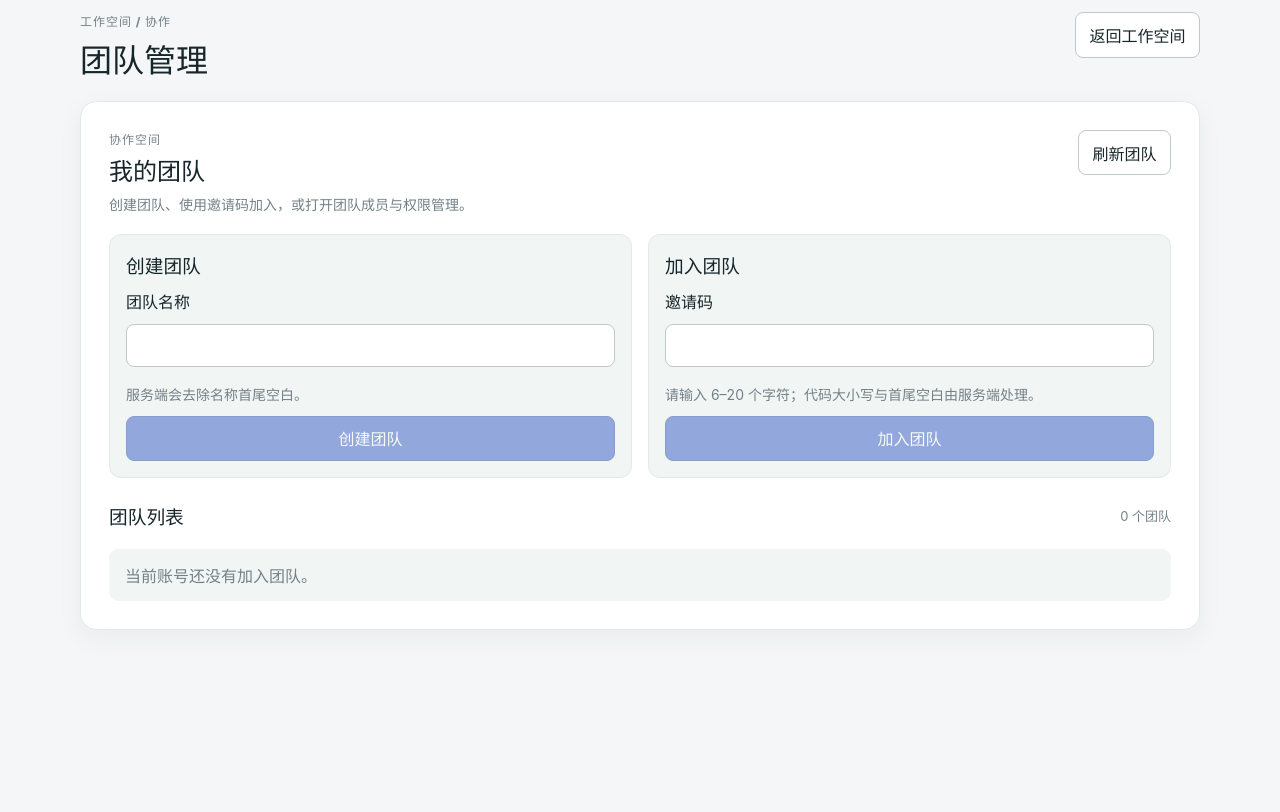
Test: TeamsPage › clears the host in-flight guard after a current unknown write result
Check: the text "当前账号还没有加入团队。" is shown, box x1=109 y1=549 x2=1171 y2=600
Type "保留草稿" into the field labelled "团队名称". click: (370, 345)
box: x1=126 y1=324 x2=615 y2=367
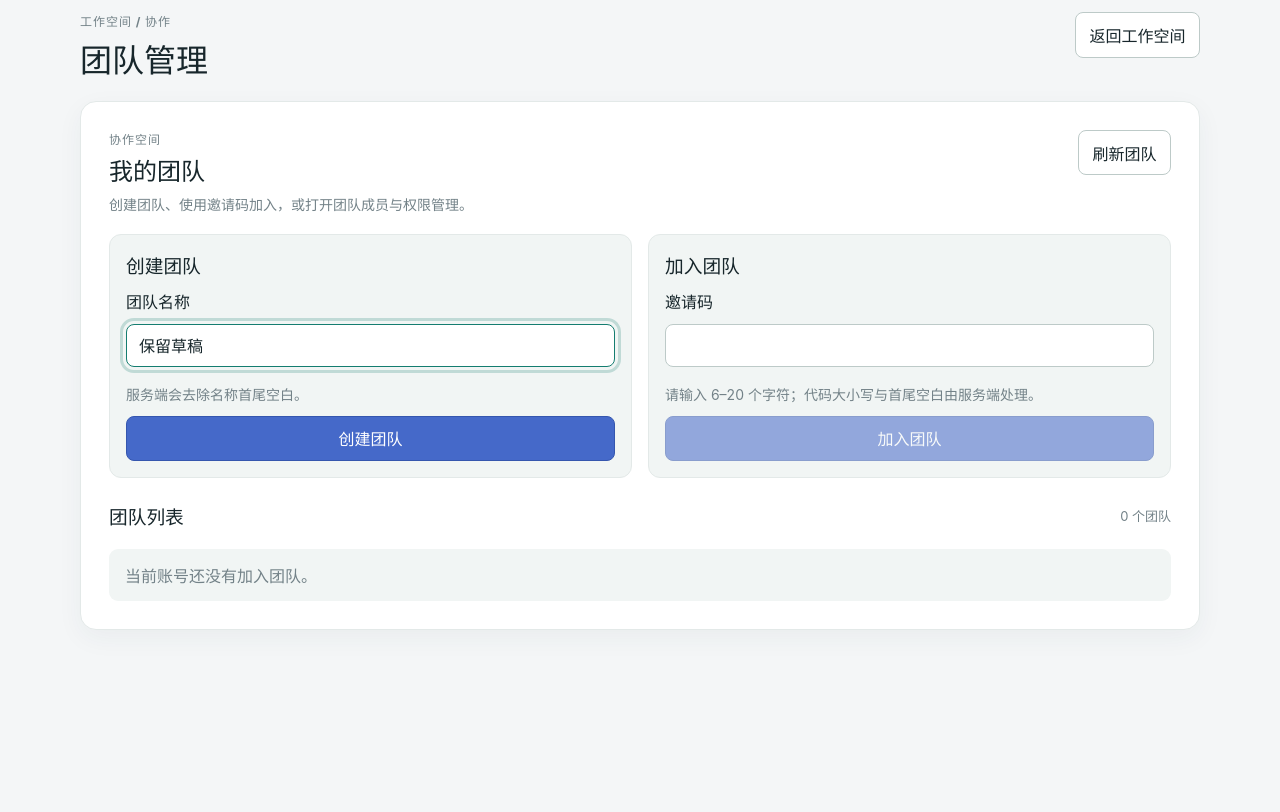
Click the button "创建团队". click: (370, 438)
box: x1=126 y1=416 x2=615 y2=461
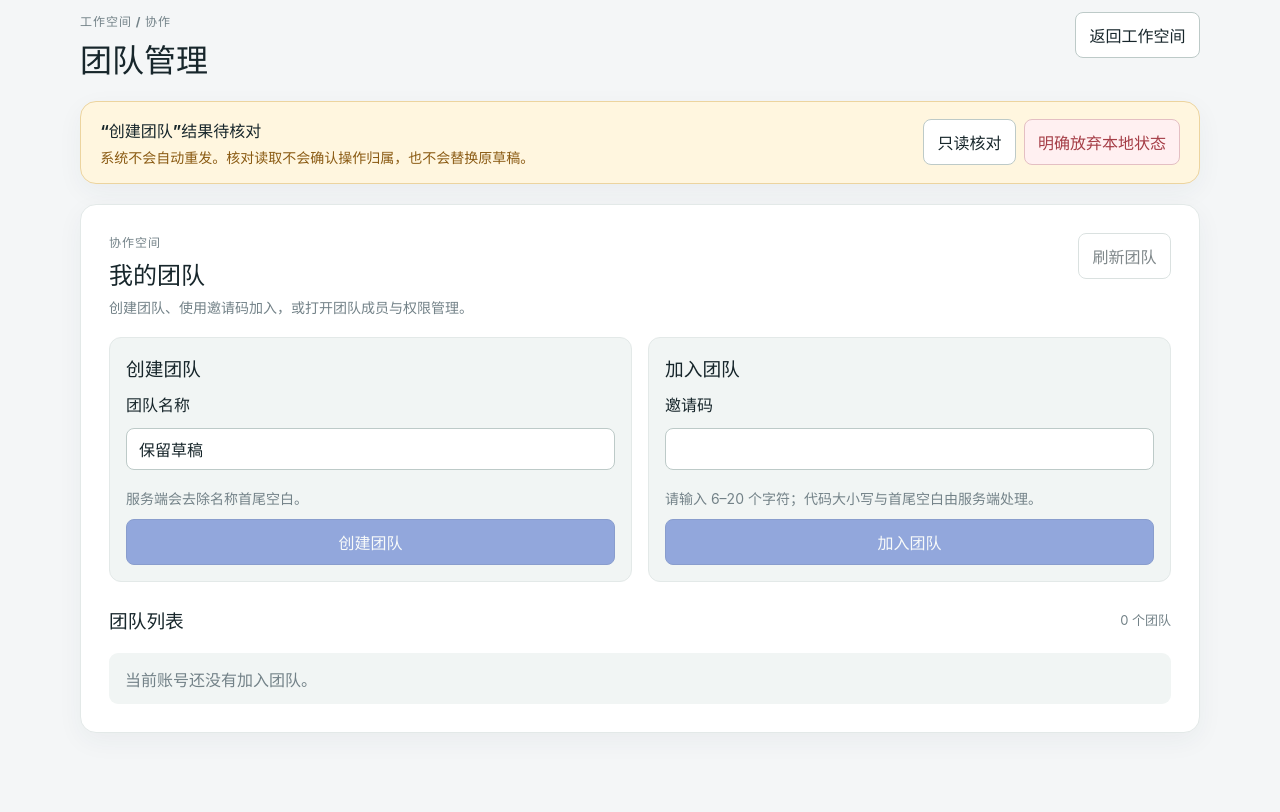
Check: the element named "待核对的团队操作" is shown, box x1=80 y1=101 x2=1200 y2=184
